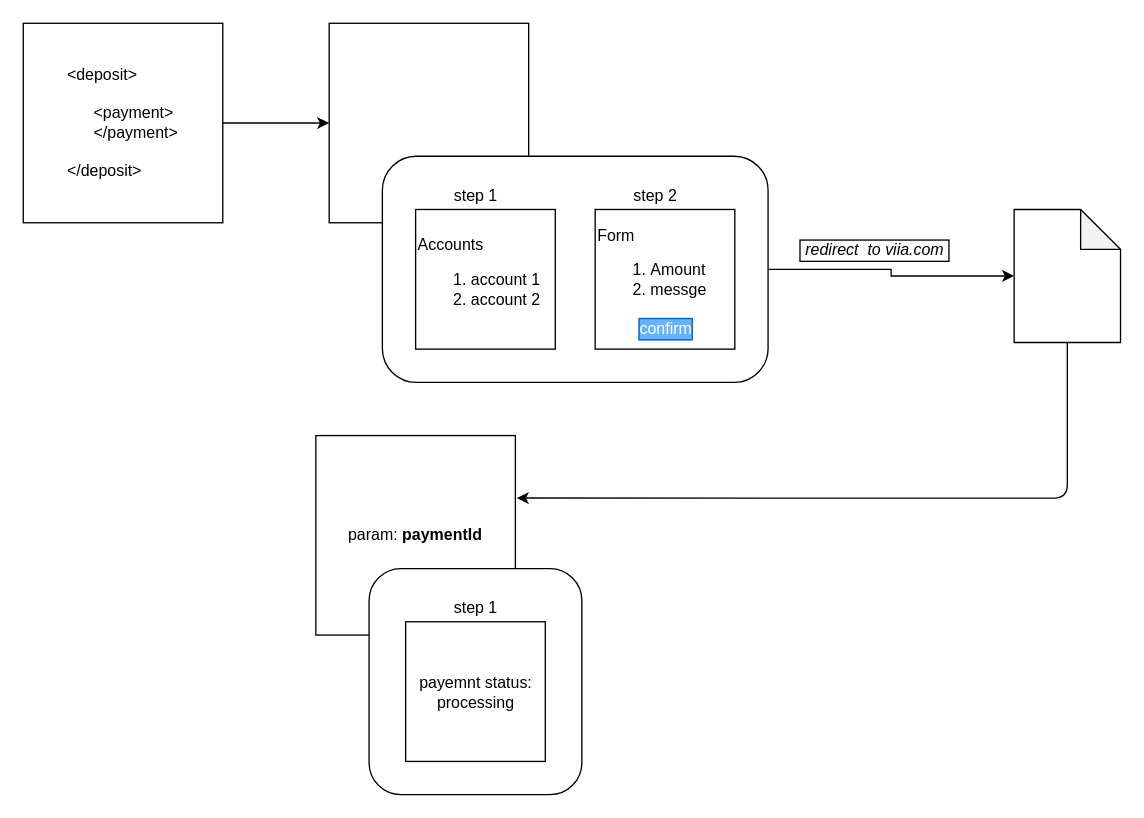
Image size: 1144x818. Some labels were removed from this diagram. The shapes that lost their labels are listed below. From the top down, each one's box as (x1, y1, x2, y2) in pixels, then its label:
(328, 22, 529, 223): param: code + consentId
(1013, 208, 1121, 342): Viia confirmstion page
